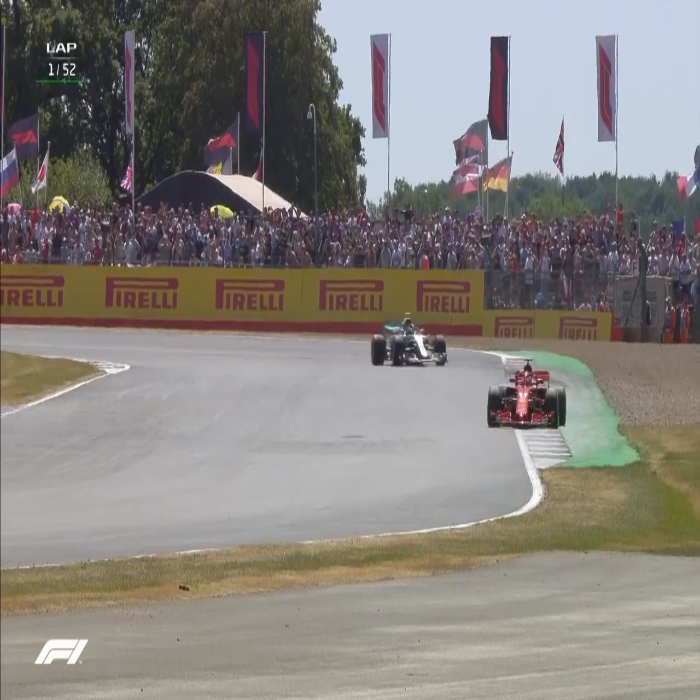f1_car: (479, 355, 577, 439), (354, 302, 457, 380)
